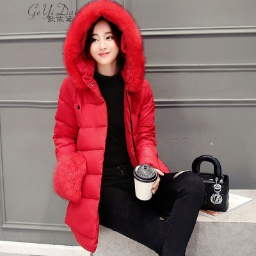face: (82, 15, 126, 70)
